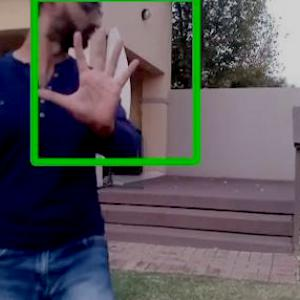follow_hand: (36, 23, 144, 129)
